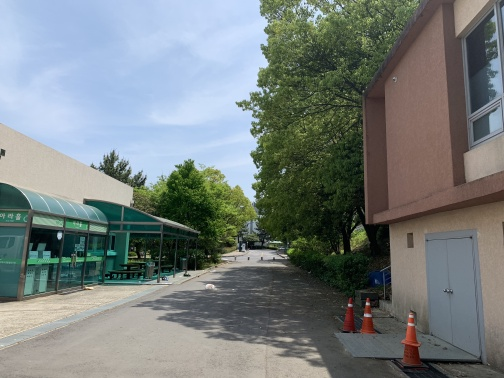Ara Hall: (1, 139, 199, 306)
